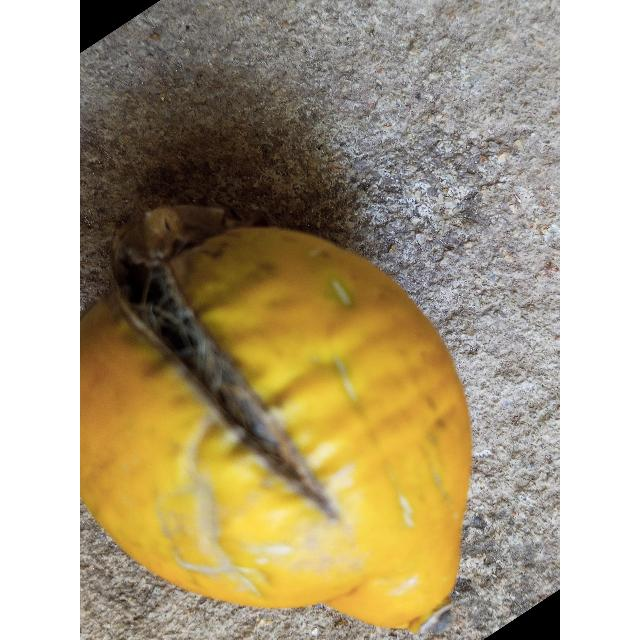damaged: (80, 211, 473, 633)
